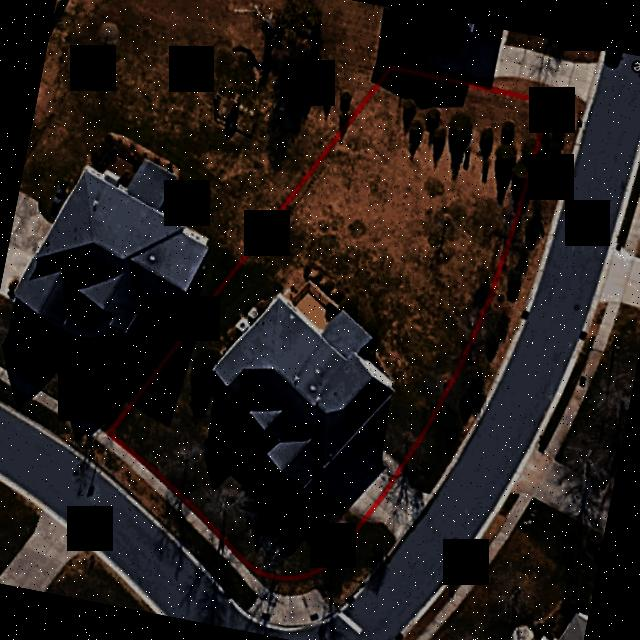Driveway: (317, 431, 398, 518)
Extra Driveway: (369, 474, 424, 544)
Extra Lawn: (308, 524, 394, 612)
House: (196, 289, 393, 483)
Sidewalk: (248, 589, 331, 630)
